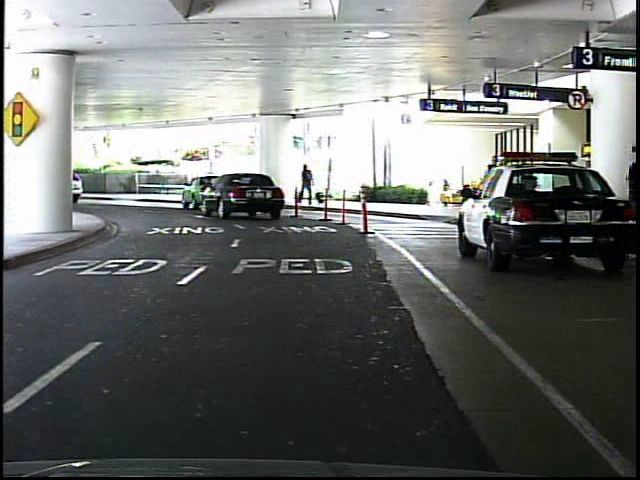person: (297, 161, 322, 208), (636, 142, 637, 247)
